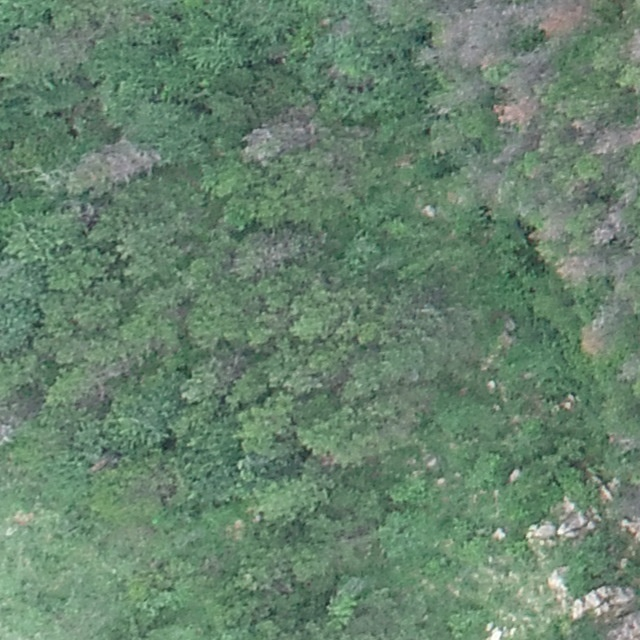unhealthy: (240, 101, 323, 162), (431, 3, 501, 69), (236, 227, 320, 276), (83, 139, 161, 185), (502, 45, 556, 93), (539, 0, 589, 37), (579, 309, 616, 358), (495, 94, 543, 128), (591, 205, 627, 246), (555, 253, 600, 283), (592, 121, 631, 155), (504, 0, 540, 30), (533, 215, 567, 244), (565, 116, 592, 146), (494, 139, 525, 165), (618, 350, 640, 386), (625, 28, 639, 67)
